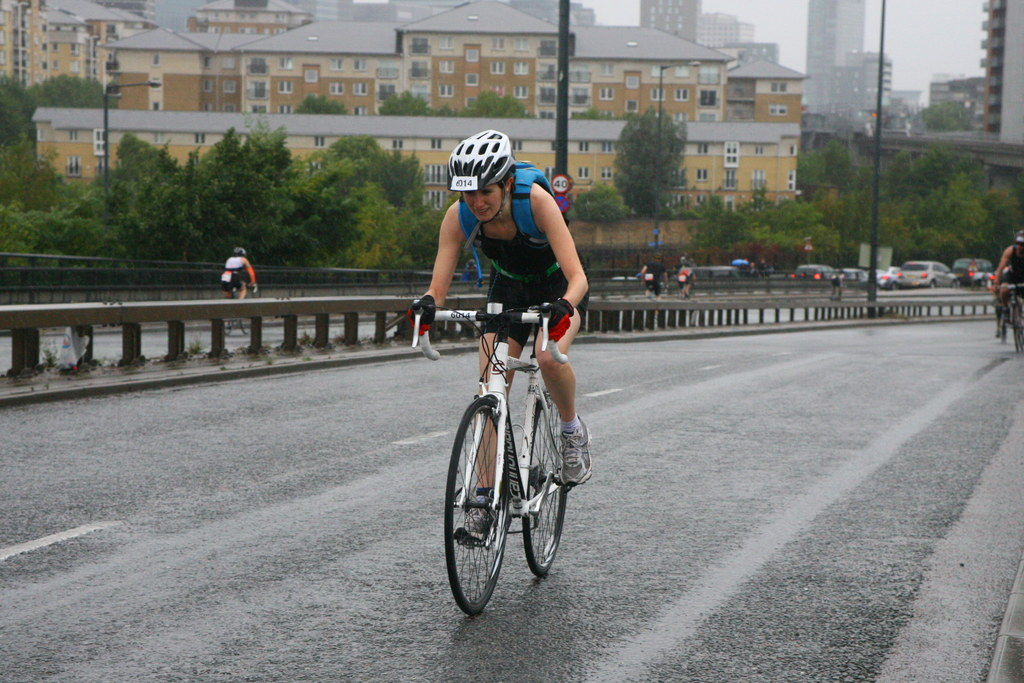Bike_toward: (404, 294, 592, 613)
